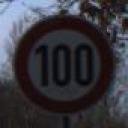speed_limit_100: (10, 12, 118, 117)
